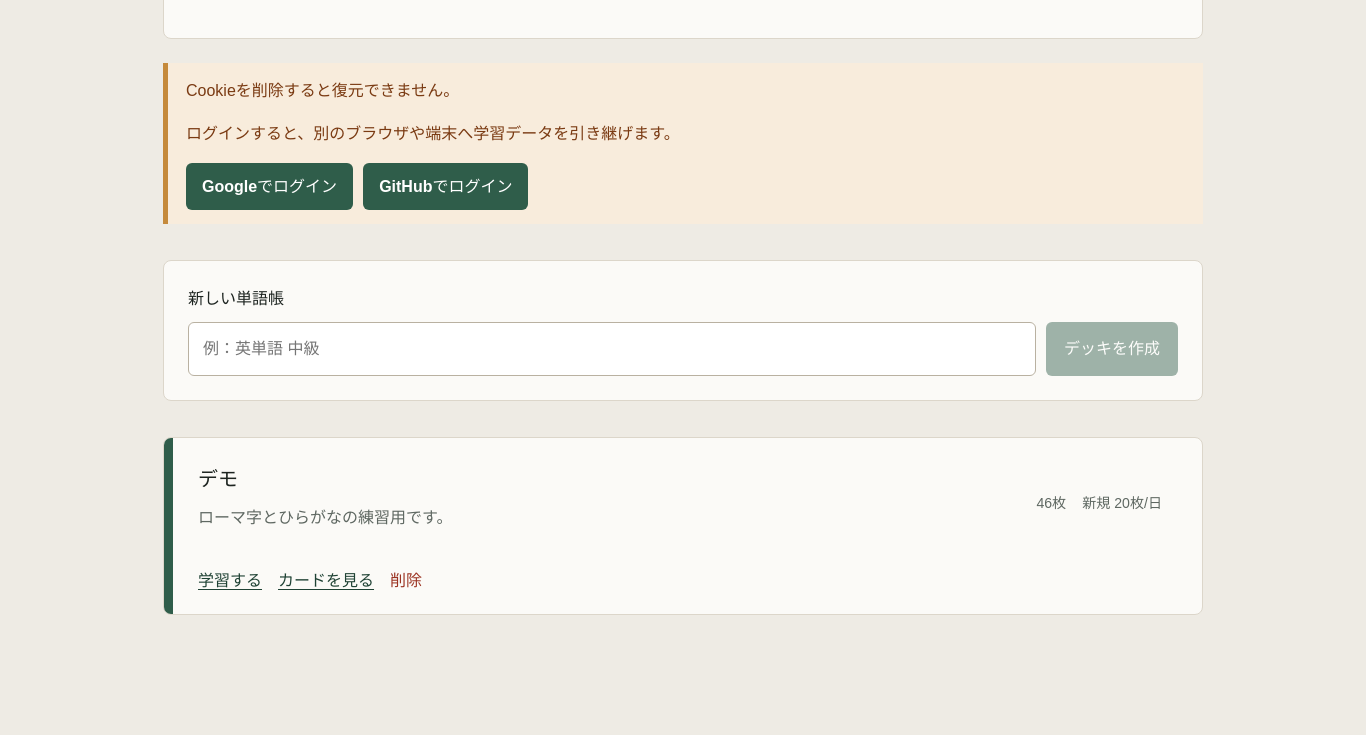
Test: DeckListScreen › 確認後にデモデッキを削除して一覧から消す
(page scrolled)
Expected: the link "デモ" is shown, [198, 468, 238, 490]
What coordinates should you click on to do the following:
click the button with aria-label "デモを削除"
I would click on:
 (406, 580)
Its box is [390, 567, 422, 594].
(page scrolled)
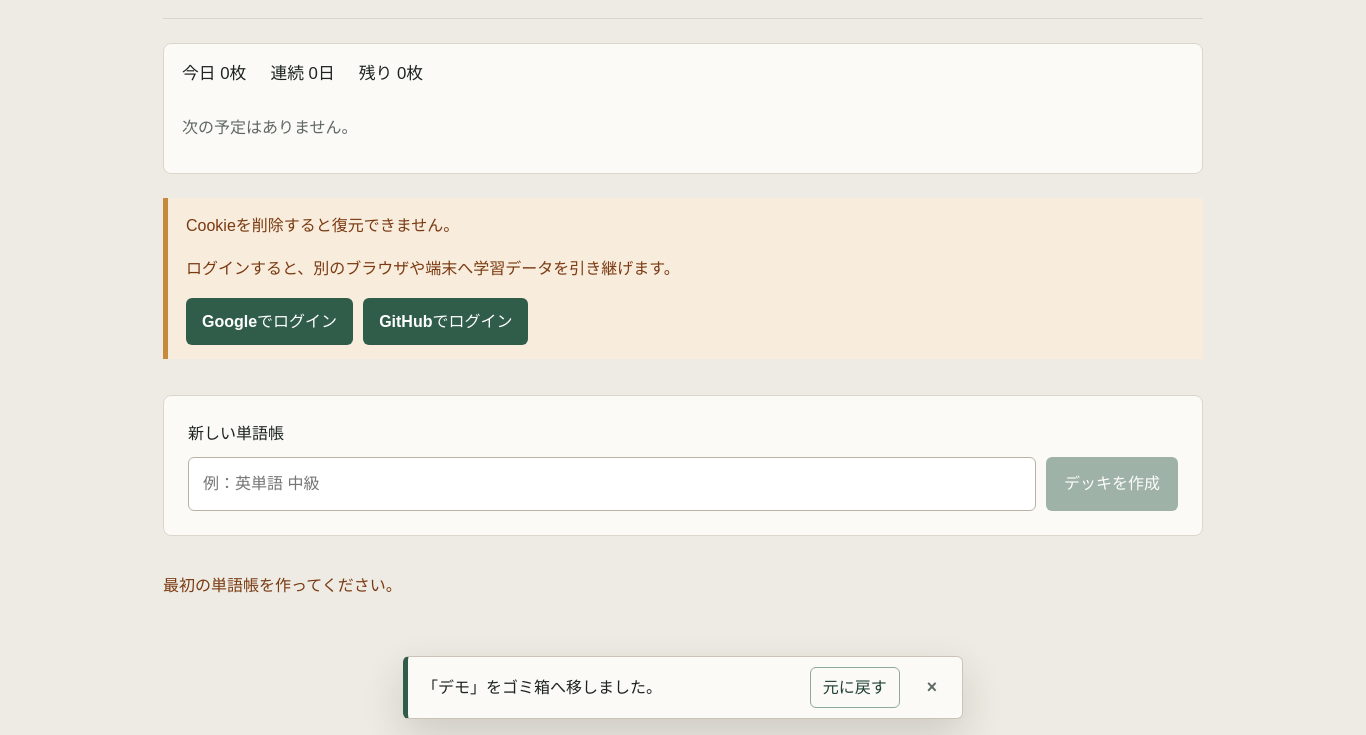
Result: the text "最初の単語帳を作ってください。" is shown at [163, 577, 402, 594]
Result: the text "「デモ」をゴミ箱へ移しました。" is shown at [422, 679, 662, 696]
Result: the button "元に戻す" is shown at [810, 667, 900, 708]
